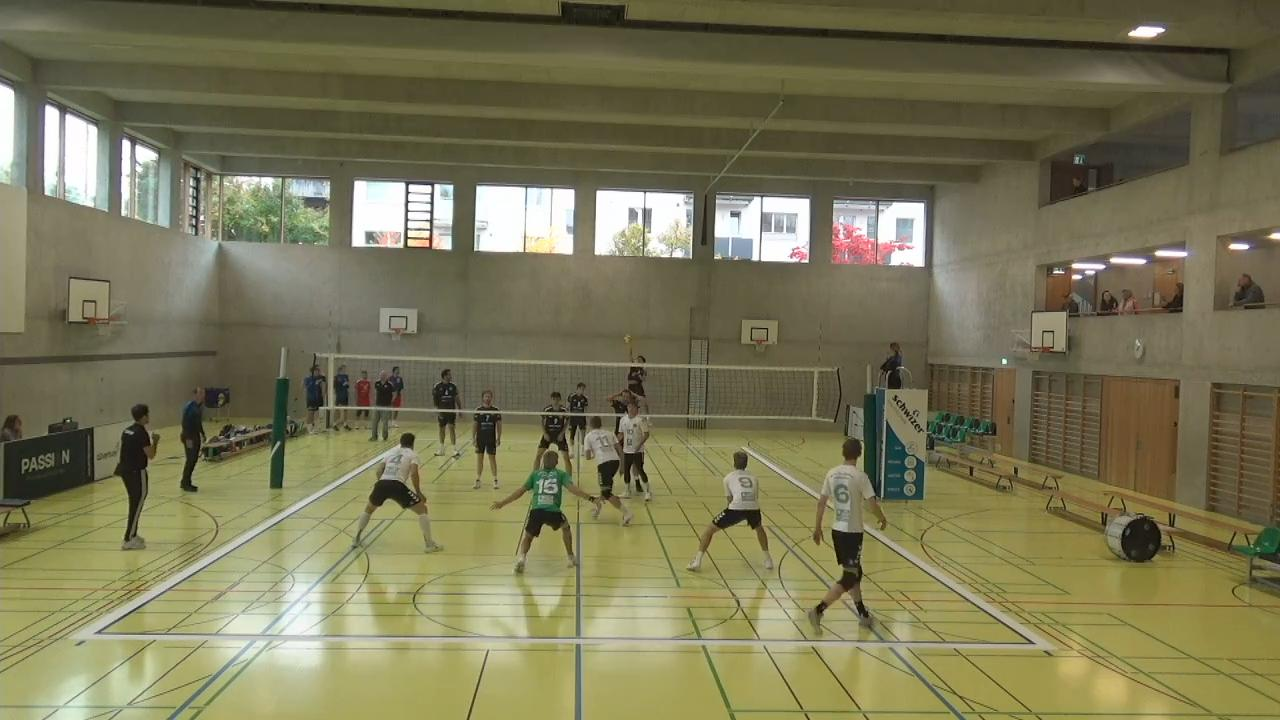Player: (804, 438, 880, 633), (493, 443, 580, 573), (354, 432, 442, 551), (691, 451, 777, 571), (572, 409, 632, 525), (615, 389, 651, 500), (471, 391, 504, 492), (433, 368, 463, 458), (535, 388, 568, 469), (569, 380, 594, 442)
Serve: (620, 345, 651, 411)
ball: (624, 332, 637, 346)
